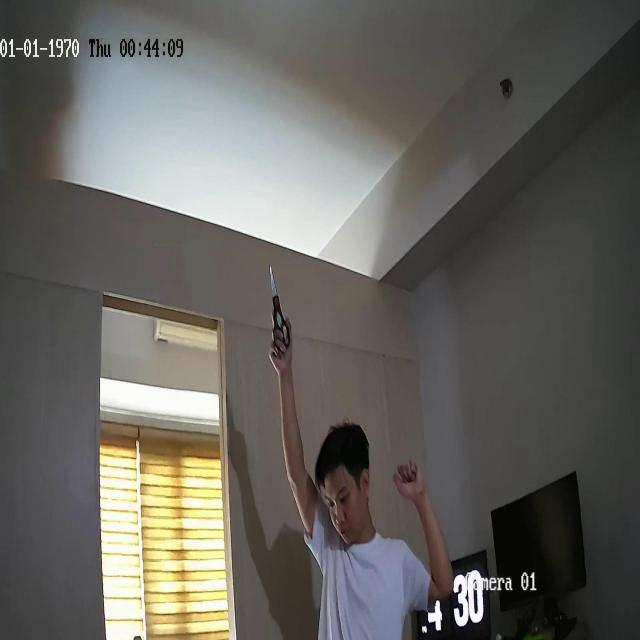scissor: (270, 267, 292, 352)
